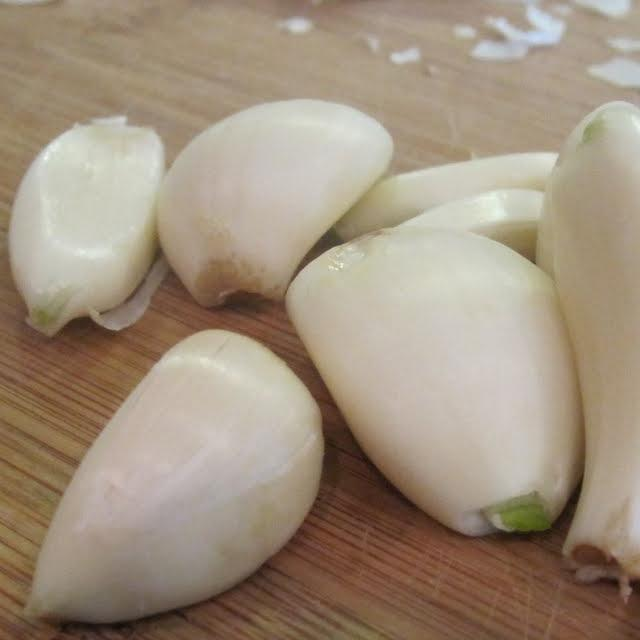garlic: (298, 226, 567, 540), (18, 338, 311, 626), (151, 90, 390, 286), (553, 98, 640, 578), (0, 108, 147, 328)
